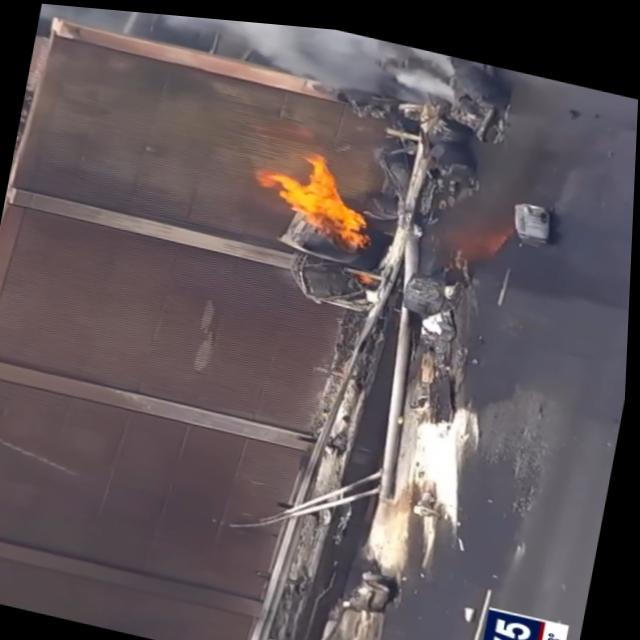Fire: (245, 136, 383, 243)
